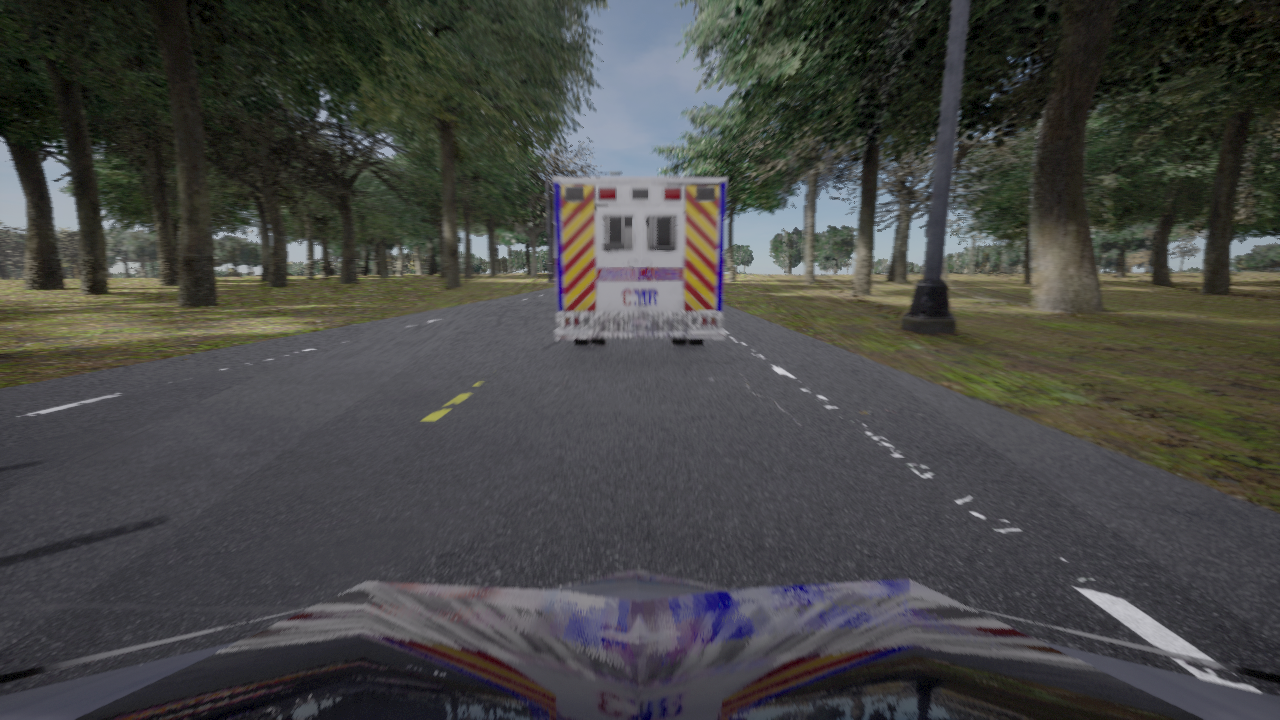cyclist: (0, 569, 1279, 719), (553, 177, 726, 345)
